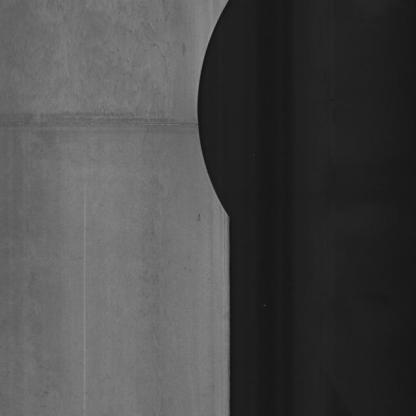crescent_gap: (192, 0, 264, 231)
welding_line: (0, 101, 198, 150)
